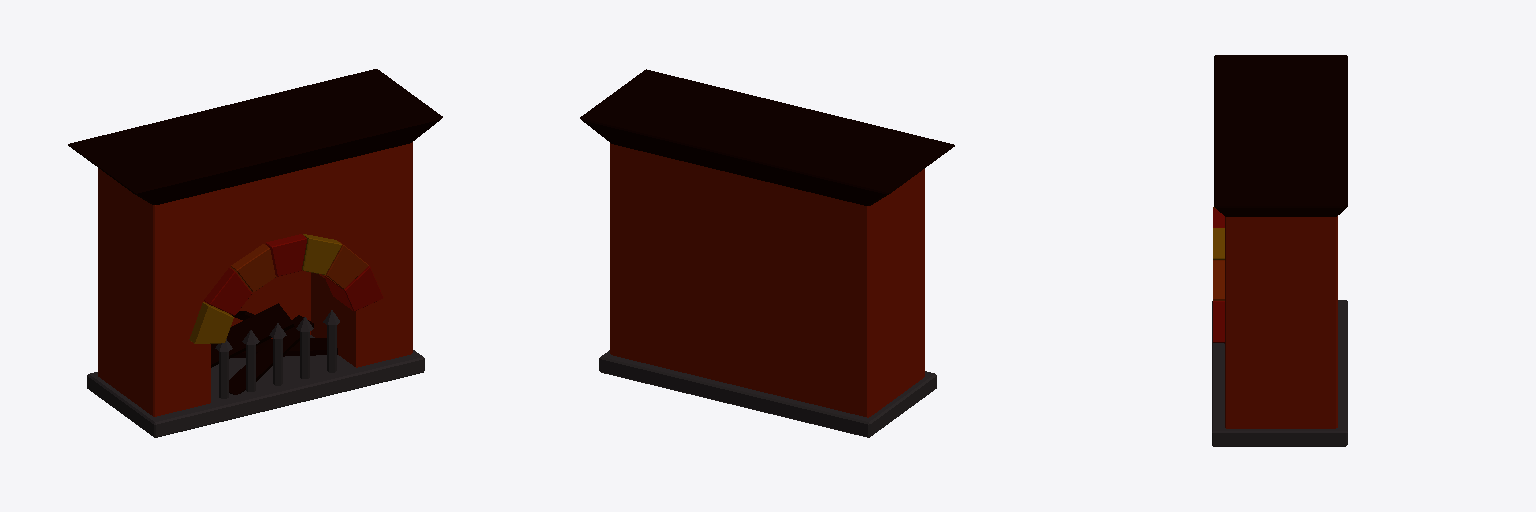
File: Fireplace1.obj
3 renders of one model, left to right at view 1: azimuth 30°, elevation 25°; view 2: azimuth 150°, elevation 25°; view 3: azimuth 270°, elevation 25°, orthographic.
Parts seen in each view (by area): view 1: Fireplace1_Cube.002; view 2: Fireplace1_Cube.002; view 3: Fireplace1_Cube.002.
Part boxes in pixels (left/top/right/bottom): Fireplace1_Cube.002: left=68, top=69, right=442, bottom=437; Fireplace1_Cube.002: left=580, top=69, right=954, bottom=437; Fireplace1_Cube.002: left=1212, top=55, right=1347, bottom=446.
Bounding box in the file's own units: 1.94 × 1.5 × 0.7406.